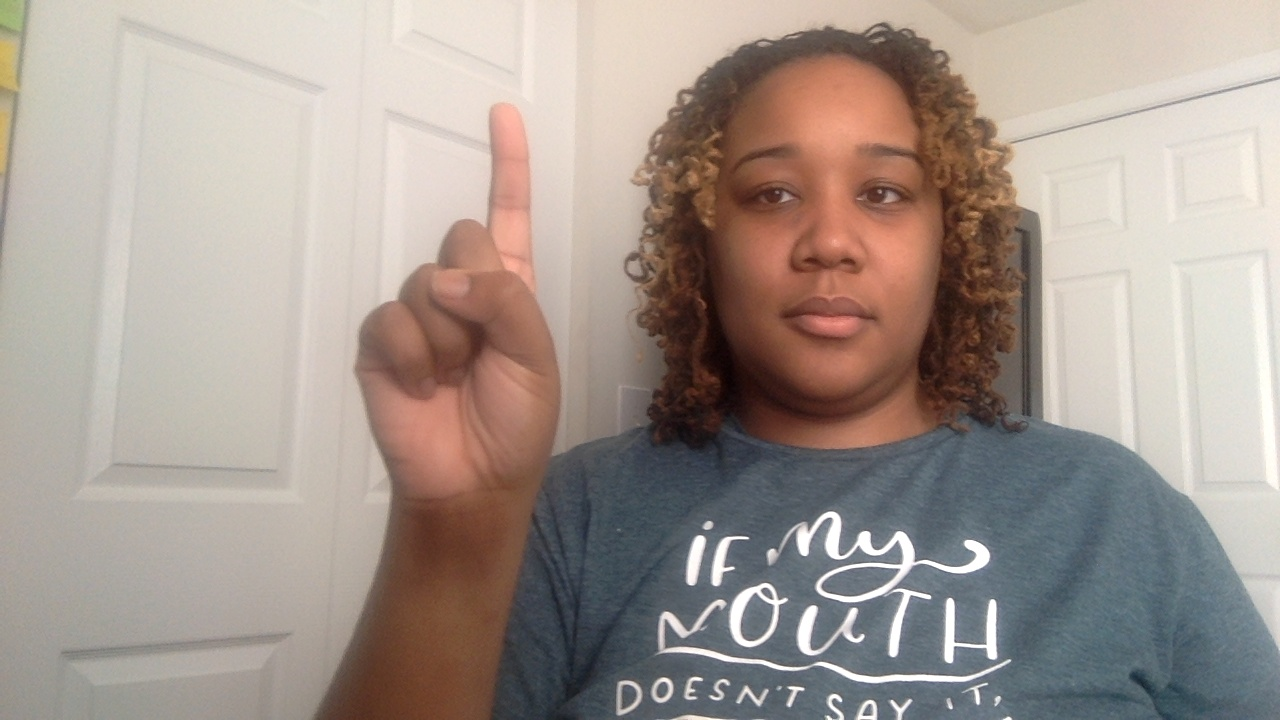up: (312, 93, 585, 718)
